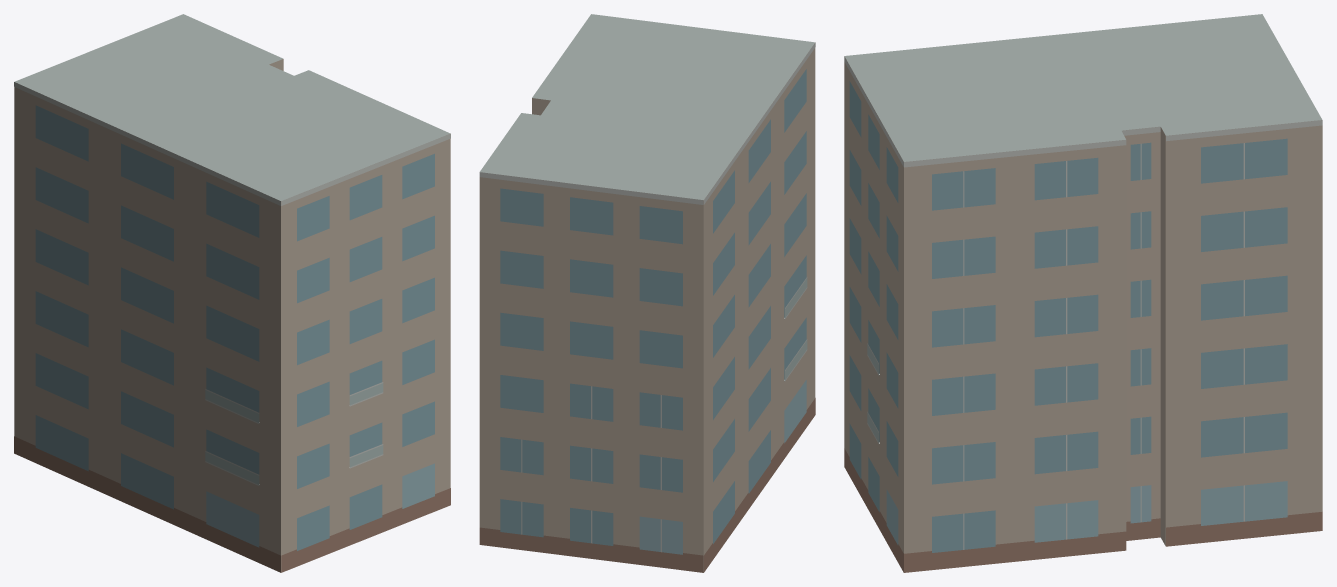
The model's file is survey-upis-32694453.glb.
3 renders of one model, left to right at view 1: azimuth 30°, elevation 25°; view 2: azimuth 150°, elevation 25°; view 3: azimuth 270°, elevation 25°, orthographic. The views are drawn at different scales.
Parts seen in each view (by area): view 1: survey-upis-32694453.tmp; view 2: survey-upis-32694453.tmp; view 3: survey-upis-32694453.tmp.
Boxes of the visible parts, x1,y1,x2,y2 form: survey-upis-32694453.tmp: (14,14,450,572); survey-upis-32694453.tmp: (479,14,815,572); survey-upis-32694453.tmp: (844,14,1322,572).
Bounding box in the file's own units: 14.15 × 18.3 × 19.31.
